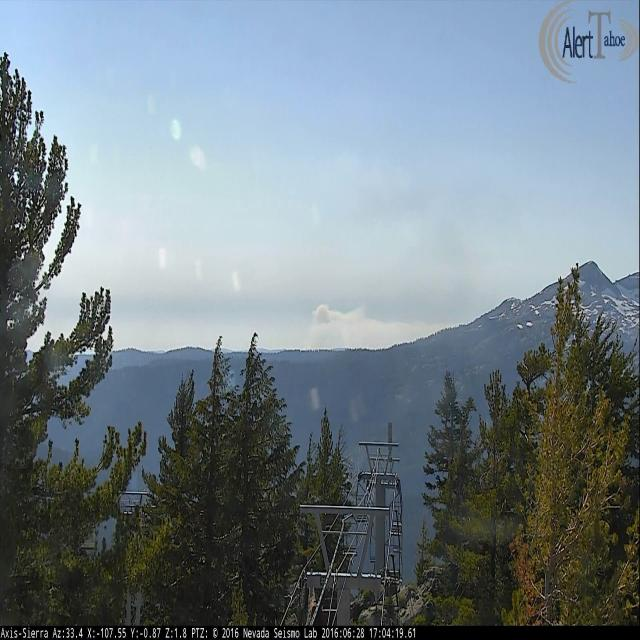smoke: (310, 303, 424, 351)
